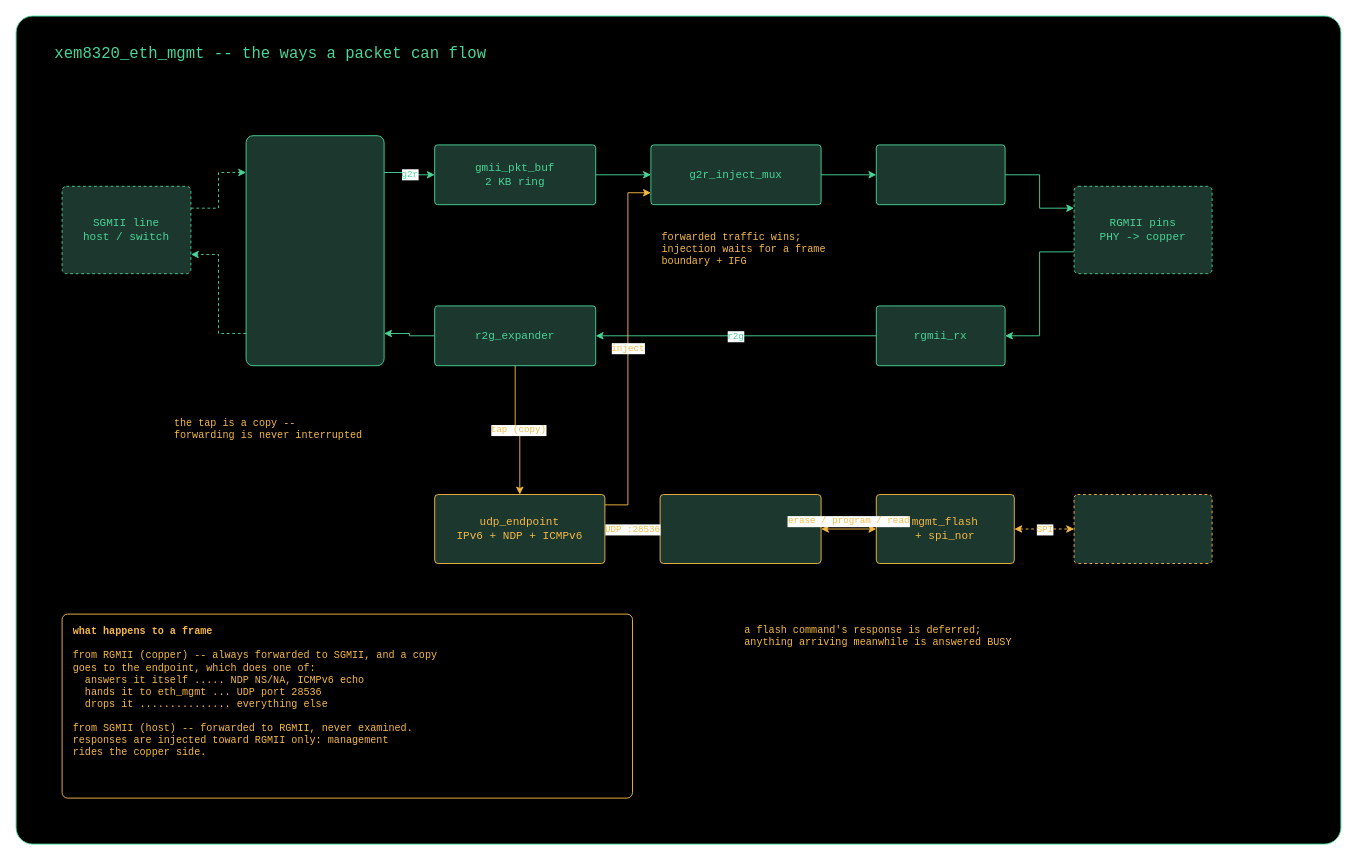
The diagram is 1357 pixels wide and 860 high, and some of its shapes have lost their labels. Each missing label, with the centre of its shape:
"eth_mgmt protocol" belongs at (740,529).
"rgmii_tx" belongs at (940,174).
"sgmii_pcs" belongs at (314,250).
"SPI NOR config flash" belongs at (1142,529).
